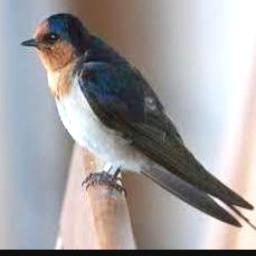Swallow: (20, 12, 256, 244)
